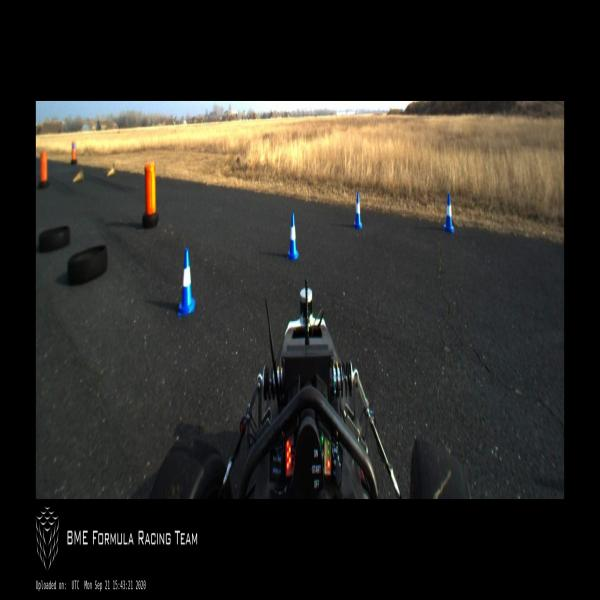blue_cone: (178, 248, 195, 318), (287, 212, 299, 260), (444, 194, 454, 233), (354, 193, 362, 230)
unknown_cone: (72, 167, 84, 182), (107, 164, 115, 178)
